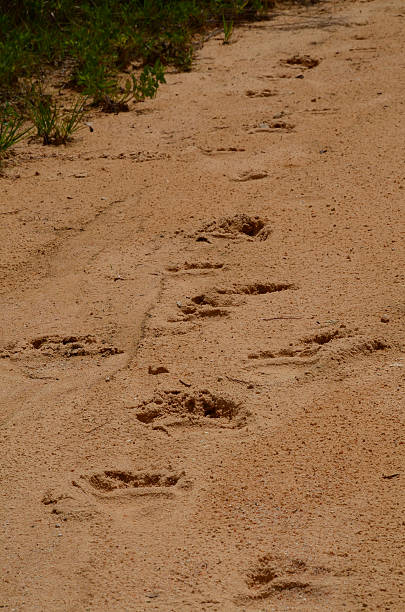animal_foot_print: (248, 327, 389, 380), (42, 469, 191, 519), (236, 554, 330, 602), (179, 281, 295, 319), (136, 389, 248, 427), (75, 469, 189, 500), (0, 334, 123, 358), (30, 334, 122, 357), (41, 484, 96, 520), (197, 213, 270, 239), (216, 281, 295, 295), (166, 261, 223, 273), (250, 119, 294, 132), (282, 54, 319, 68), (231, 169, 267, 181), (245, 88, 278, 97)
